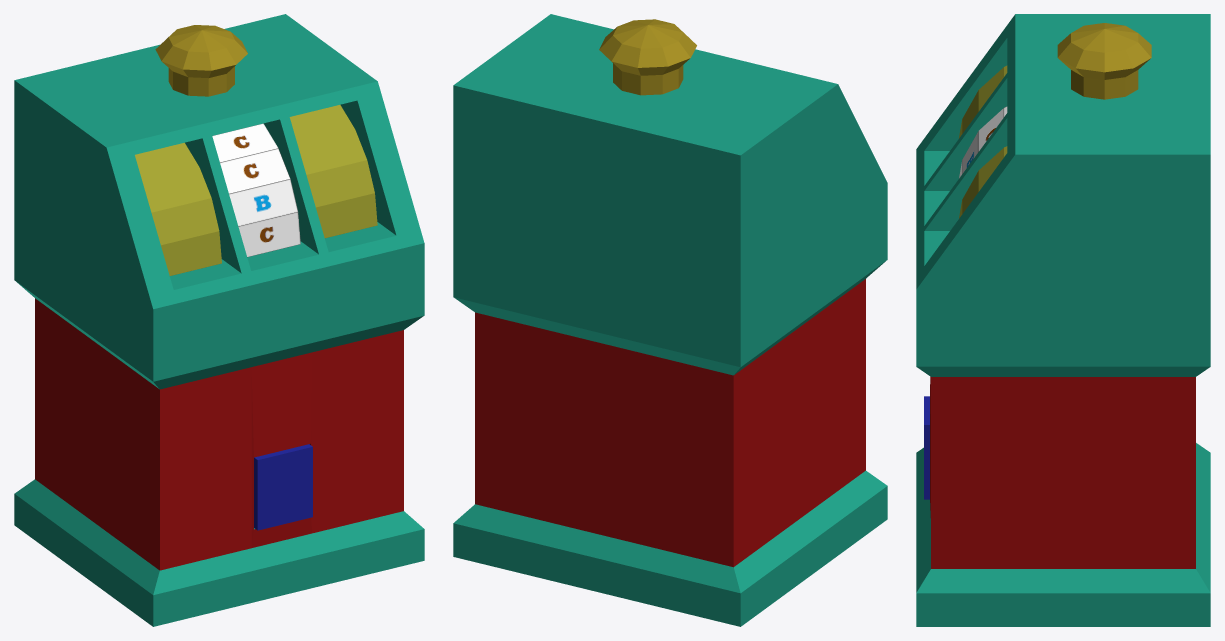
The model's file is slot_machine_momche.obj.
3 renders of one model, left to right at view 1: azimuth 30°, elevation 25°; view 2: azimuth 150°, elevation 25°; view 3: azimuth 270°, elevation 25°, orthographic. The views are drawn at different scales.
Parts seen in each view (by area): view 1: Object__19, Object__15, Object__0, Object__6, Object__2, Object__13, Object__9, Object__17; view 2: Object__19, Object__15, Object__9, Object__17; view 3: Object__19, Object__15, Object__9, Object__17, Object__2, Object__6, Object__0, Object__13.
Part boxes in pixels (x1,y1,x2,y2): Object__19: (14,14,424,626); Object__15: (35,298,403,570); Object__0: (212,123,300,257); Object__6: (289,105,377,238); Object__2: (135,142,221,275); Object__13: (254,444,312,530); Object__9: (155,25,247,96); Object__17: (161,32,247,78); Object__19: (453,14,887,626); Object__15: (475,279,865,567); Object__9: (599,19,696,95); Object__17: (599,27,689,75); Object__19: (916,14,1210,626); Object__15: (930,376,1195,568); Object__9: (1071,23,1138,99); Object__17: (1057,33,1151,76); Object__2: (958,65,1007,138); Object__6: (959,146,1007,218); Object__0: (959,106,1007,178); Object__13: (924,396,929,499).
Bounding box in the file's own units: 1.06 × 1.86 × 0.939.
